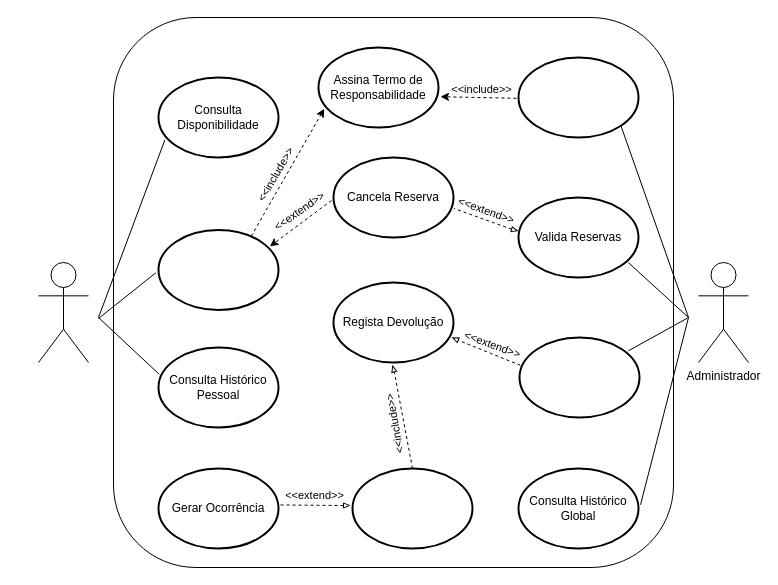
This 778x585 diagram has some shape labels left out. Each missing label, with the centre of its shape:
"Consulta Reservas Ativas" belongs at point 579,377.
"Efetua Reserva" belongs at point 218,269.
"Encarregado de Educação / Aluno" belongs at point 63,312.
"Regista Estado" belongs at point 412,508.
"Regista Levantamento" belongs at point 578,97.
